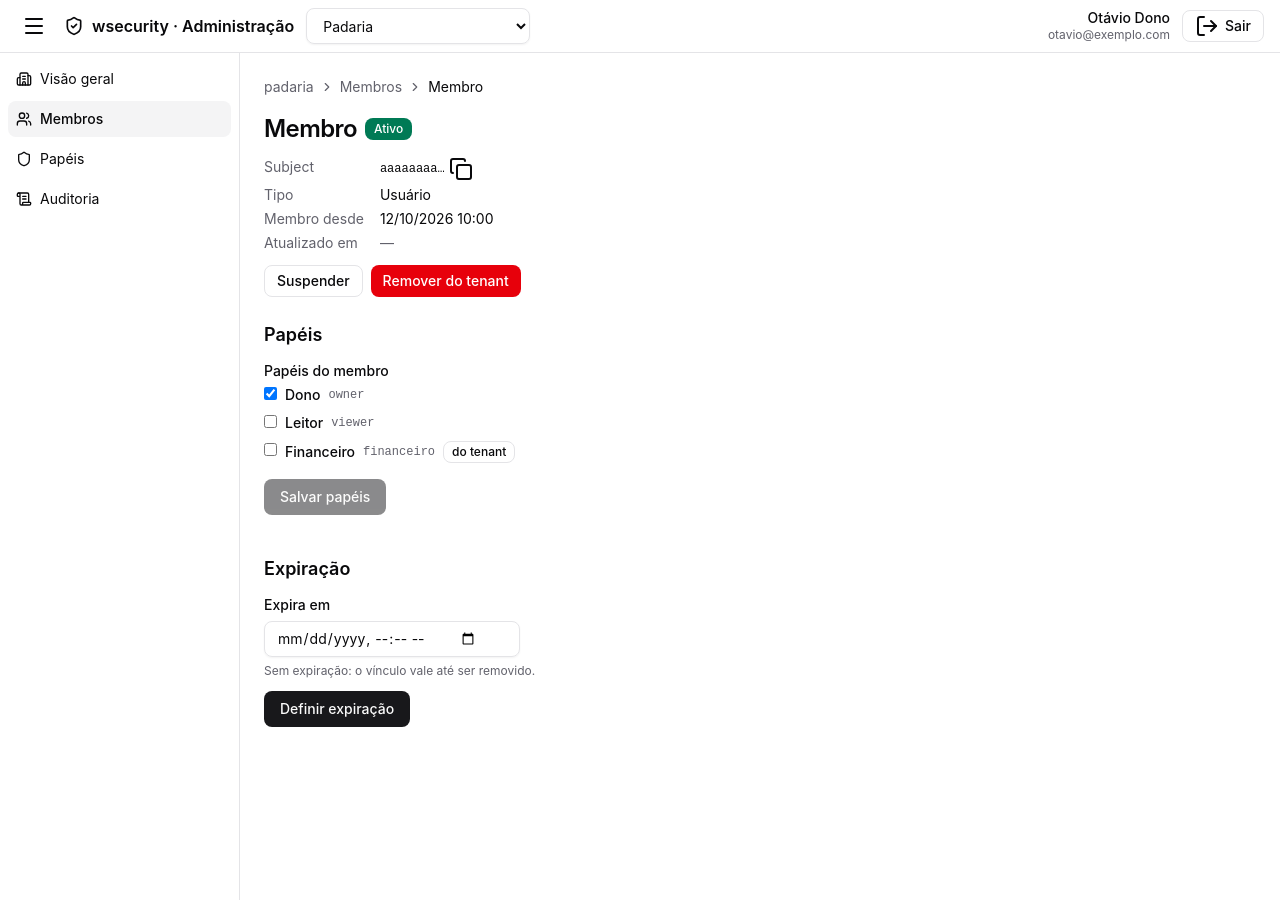
Test: detalhe do membro › explica o erro do último dono ao remover
Click the button "Remover do tenant".
click(446, 281)  # box [371, 265, 521, 297]
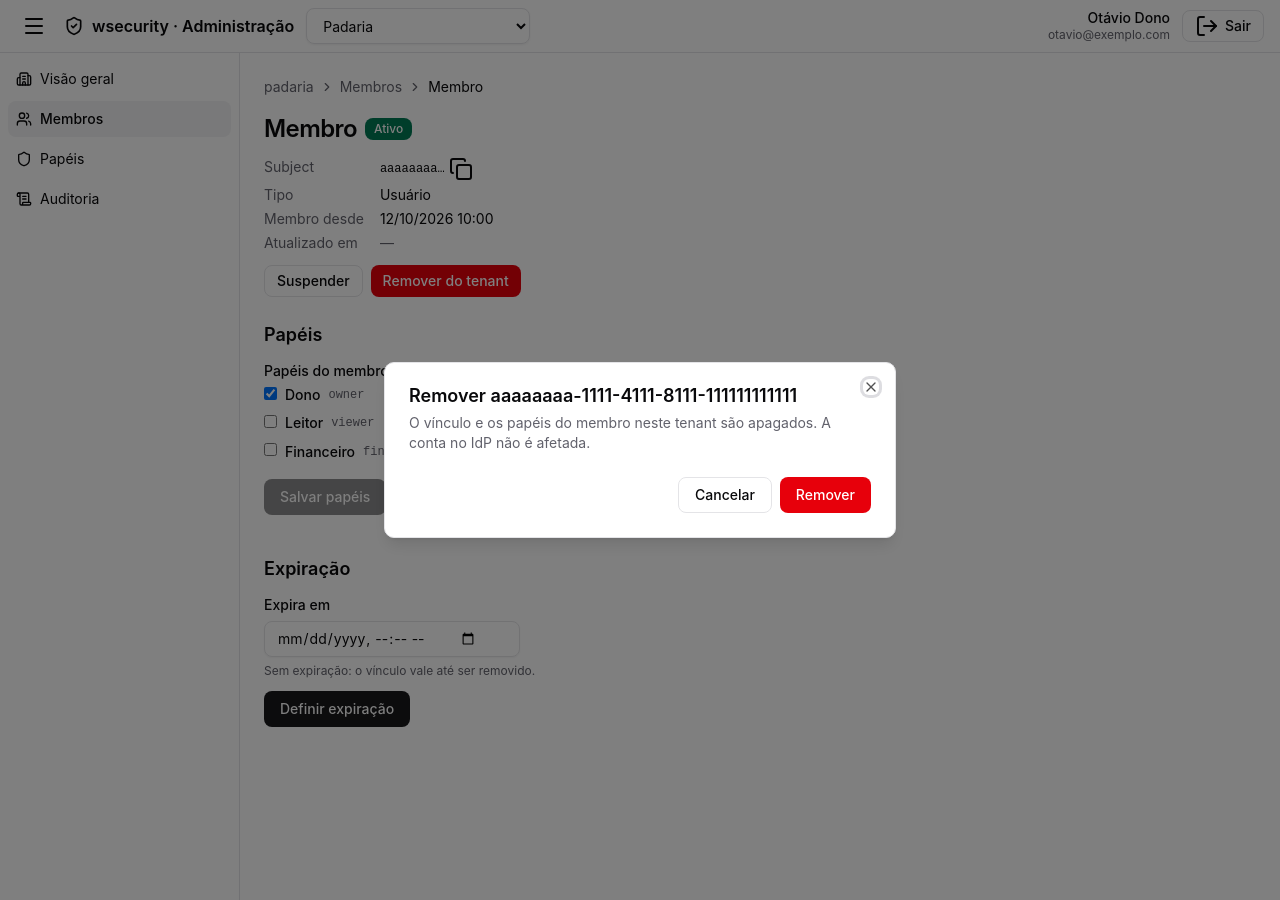
Click the button "Remover".
click(825, 495)  # box [780, 477, 871, 513]
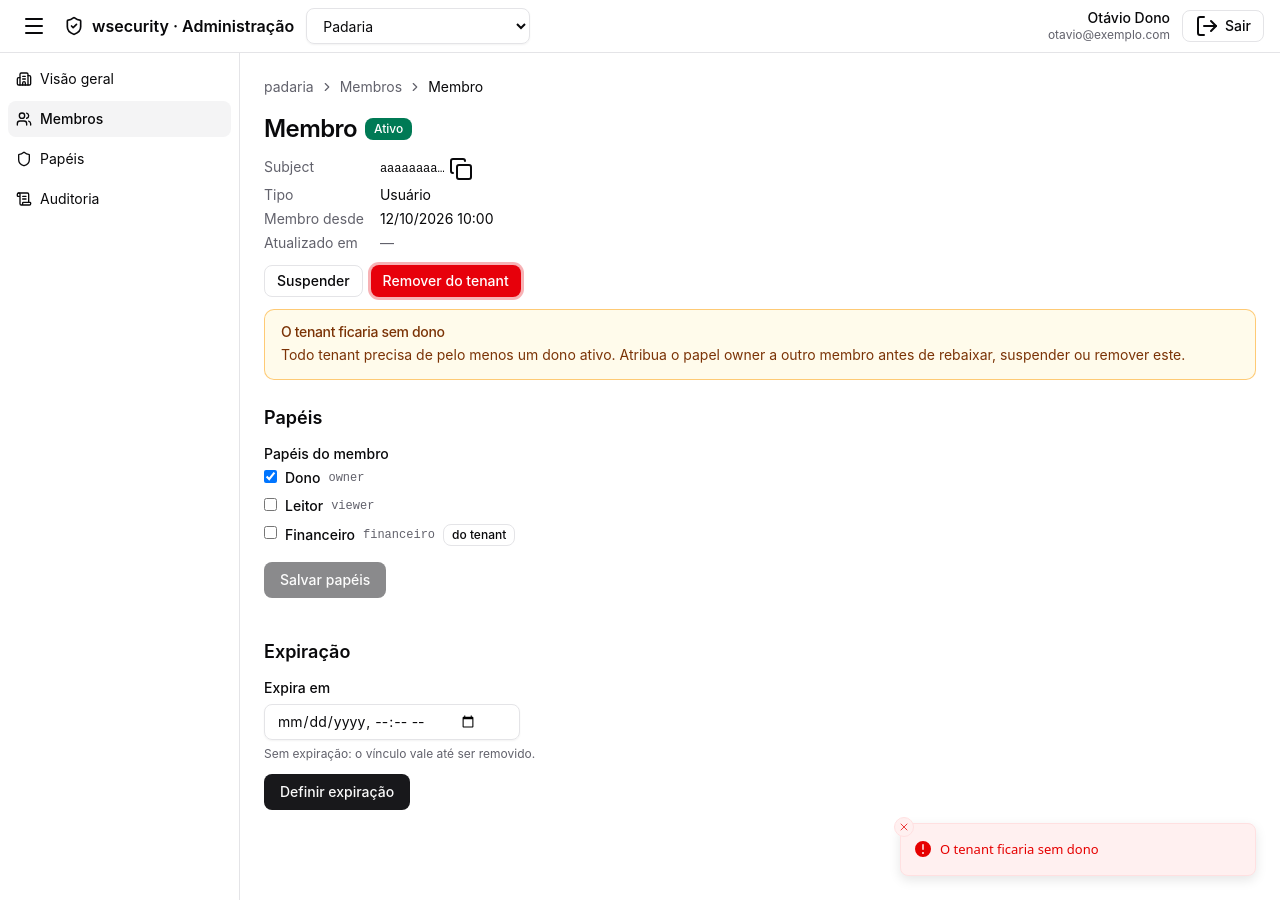
Check: the text "Atribua o papel owner a outro membro" is shown, box [281, 346, 1185, 363]
